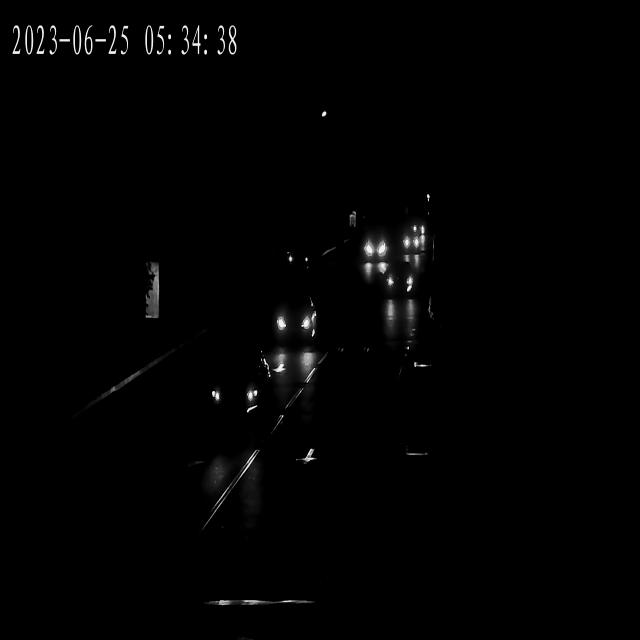Car: (211, 347, 271, 437), (275, 274, 317, 347), (384, 260, 418, 313), (362, 222, 391, 268), (402, 227, 422, 256)
